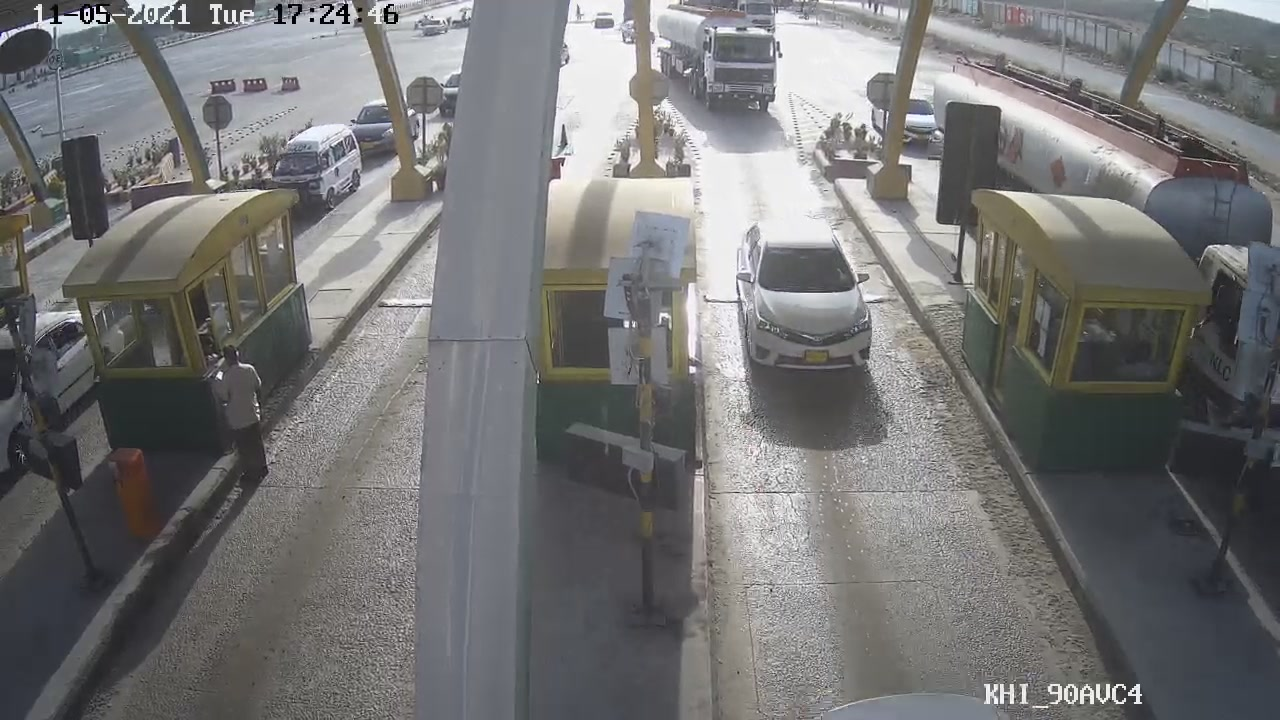F1: (732, 211, 892, 373)
